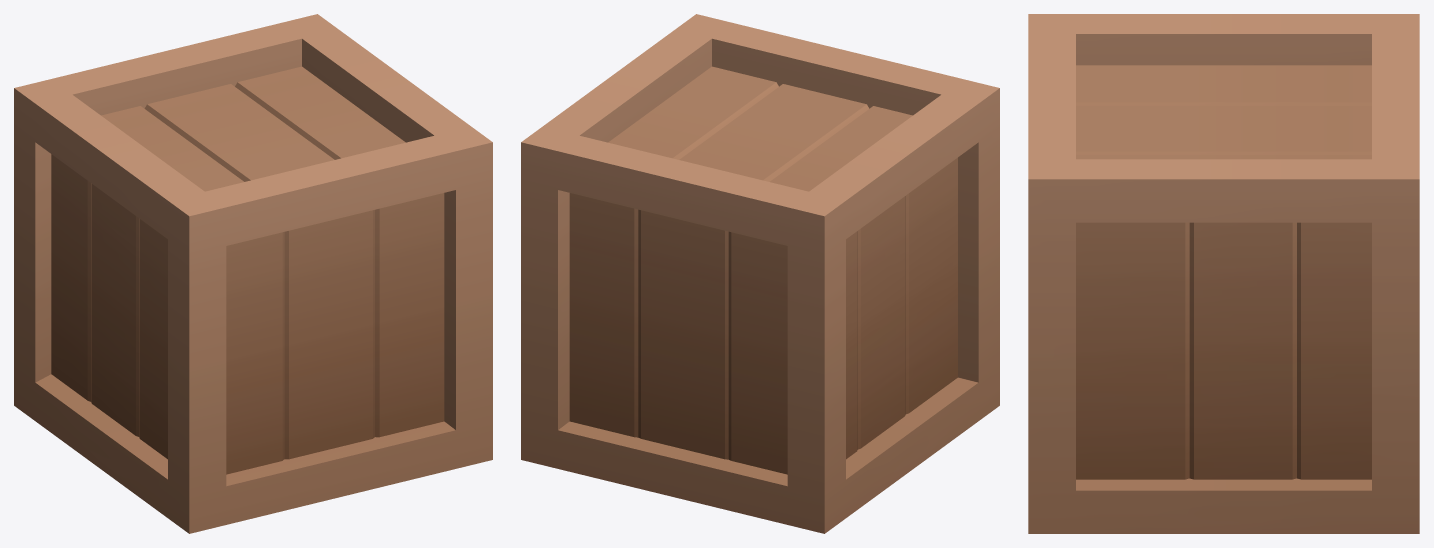
Rendered from SM_Exterior_Caja_02.fbx.
3 views of the same model, side by side, from view 1: azimuth 30°, elevation 25°; view 2: azimuth 150°, elevation 25°; view 3: azimuth 270°, elevation 25° (orthographic). The views are drawn at different scales.
Parts seen in each view (by area): view 1: SM_Exterior_Caja2; view 2: SM_Exterior_Caja2; view 3: SM_Exterior_Caja2.
Part boxes in pixels (box(x1,y1,x2,y2)): SM_Exterior_Caja2: box(14, 14, 492, 533); SM_Exterior_Caja2: box(521, 14, 999, 533); SM_Exterior_Caja2: box(1028, 14, 1419, 533).
Size of the model in its own units: 170 by 170 by 170.
